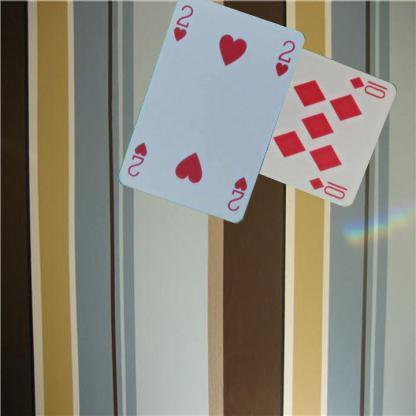10d: (348, 73, 390, 100)
2h: (170, 2, 195, 43), (224, 174, 249, 213)
